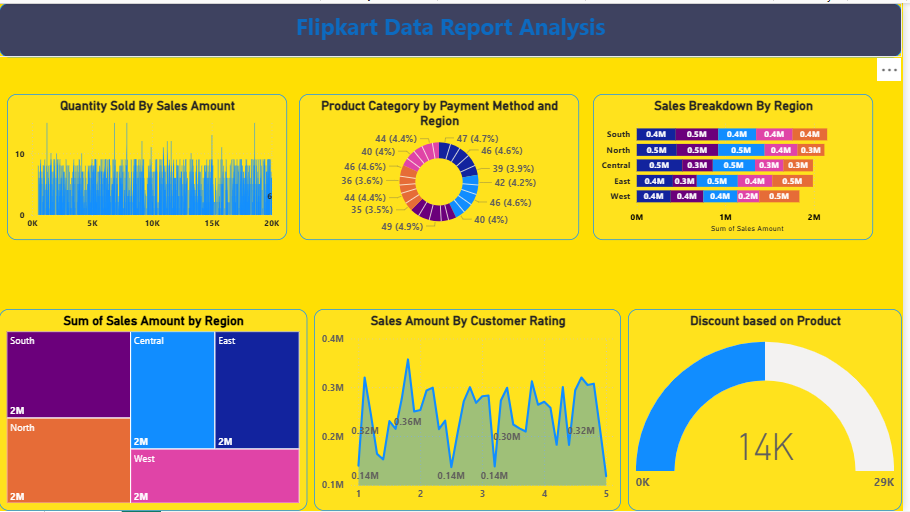

Layout of this report page (visuals, bound fields, positions):
{"tool":"powerbi","page":{"name":"Page 2","canvas":[1280,720],"ordinal":1},"visuals":[{"type":"map","title":"Sales by Region","fields":{"Category":["Sheet1.Region"],"Series":["Sheet1.Sales Amount"]},"box":[0,371.3,602.4,348.7],"z":0},{"type":"barChart","title":"Sales Breakdown By Region","fields":{"Category":["Sheet1.Region"],"Y":["Sum(Sheet1.Sales Amount)"],"Series":["Sheet1.Payment Method"]},"box":[841.9,129,396.9,206.9],"z":1000},{"type":"textbox","box":[0,0,1279.8,76.5],"z":2000},{"type":"ribbonChart","title":"Quantity Sold By Sales Amount","fields":{"Y":["Sum(Sheet1.Quantity Sold)"],"Category":["Sheet1.Sales Amount"]},"box":[11.3,129,396.9,206.9],"z":3000},{"type":"gauge","title":"Discount based on Product","fields":{"Y":["Sum(Sheet1.Discount (%))"]},"box":[721.4,455,558.4,265],"z":4000},{"type":"donutChart","title":" Product Category by Payment Method and Region","fields":{"Category":["Sheet1.Payment Method"],"Y":["CountNonNull(Sheet1.Product Category)"],"Series":["Sheet1.Region"]},"box":[418.1,129,396.9,206.9],"z":5000}]}

Visuals, with their boxes in screenshot pixels (x1, y1, x2, y2), scaled from the page's 1280x720 canvas onto the 910x512 screenshot:
"Sales by Region" map: region(0, 264, 428, 511)
"Sales Breakdown By Region" barChart: region(599, 92, 881, 239)
textbox: region(0, 0, 909, 54)
"Quantity Sold By Sales Amount" ribbonChart: region(8, 92, 290, 239)
"Discount based on Product" gauge: region(513, 324, 909, 511)
" Product Category by Payment Method and Region" donutChart: region(297, 92, 579, 239)
